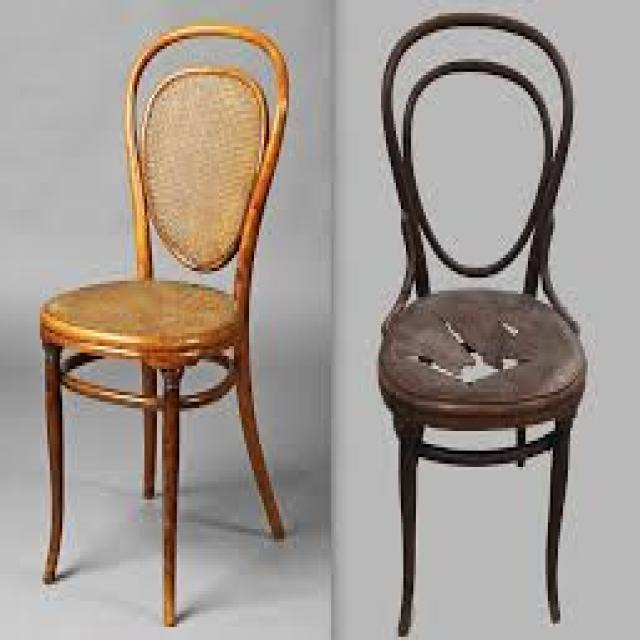chair: (0, 1, 347, 640), (326, 0, 640, 640)
